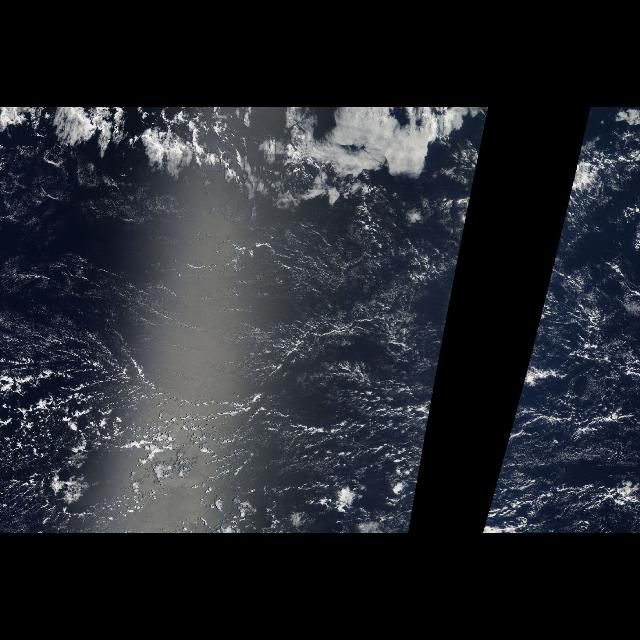Gravel: (0, 266, 458, 528), (484, 266, 636, 528)
Sugar: (6, 178, 434, 522)
